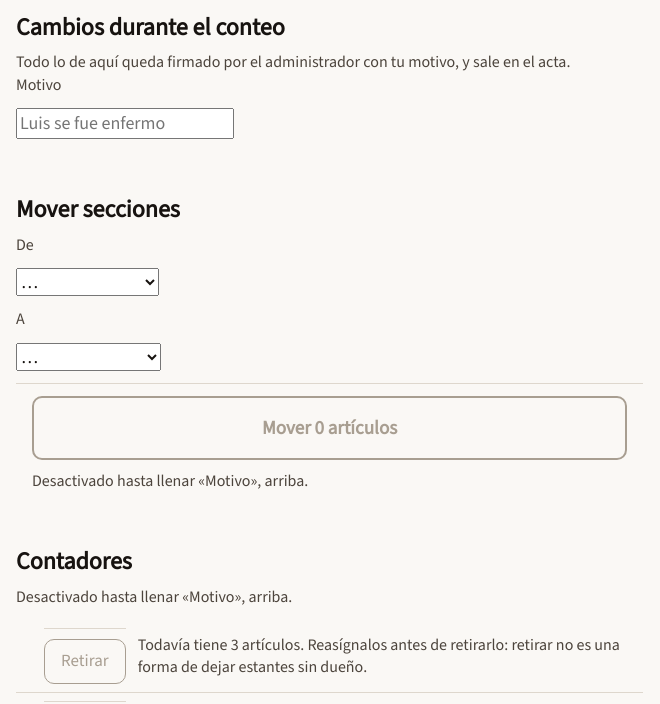
Test: the mid-count reassignment warning (§4b) › names the counter whose tablet has not synced, and when it last did
The width and height of the screenshot is (660, 704).
Select "Luis · 3 artículos" in the dropdown labelled "De" at (88, 282), box 16,268 -> 159,296
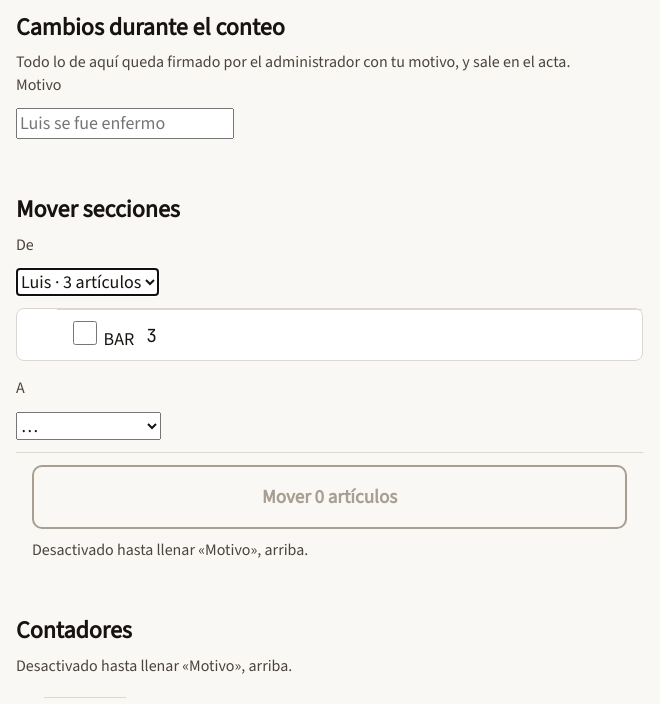
Click the checkbox at (85, 333), box 73,321 -> 97,345
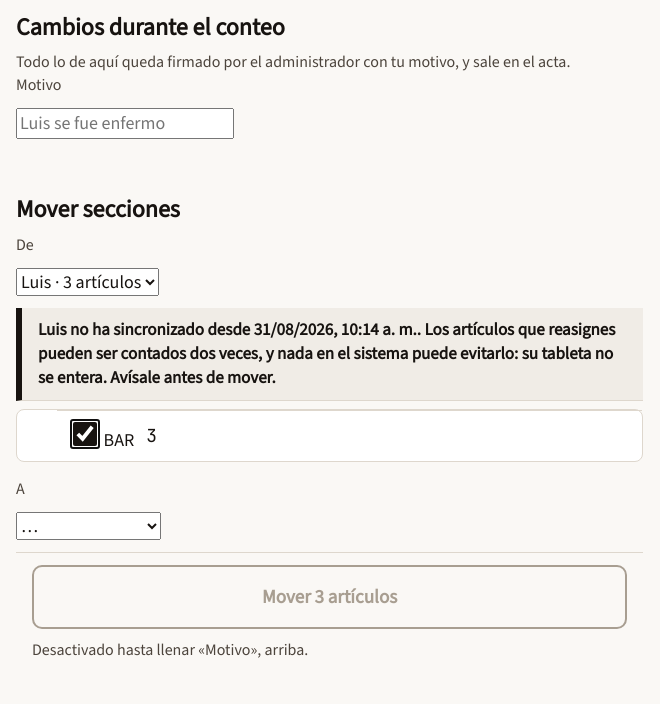
expect the text "Luis no ha sincronizado desde" shows "pueden ser contados dos veces": met, box 38,318 -> 615,389
expect the text "Luis no ha sincronizado desde" shows "nada en el sistema puede evitarlo": met, box 38,318 -> 615,389
